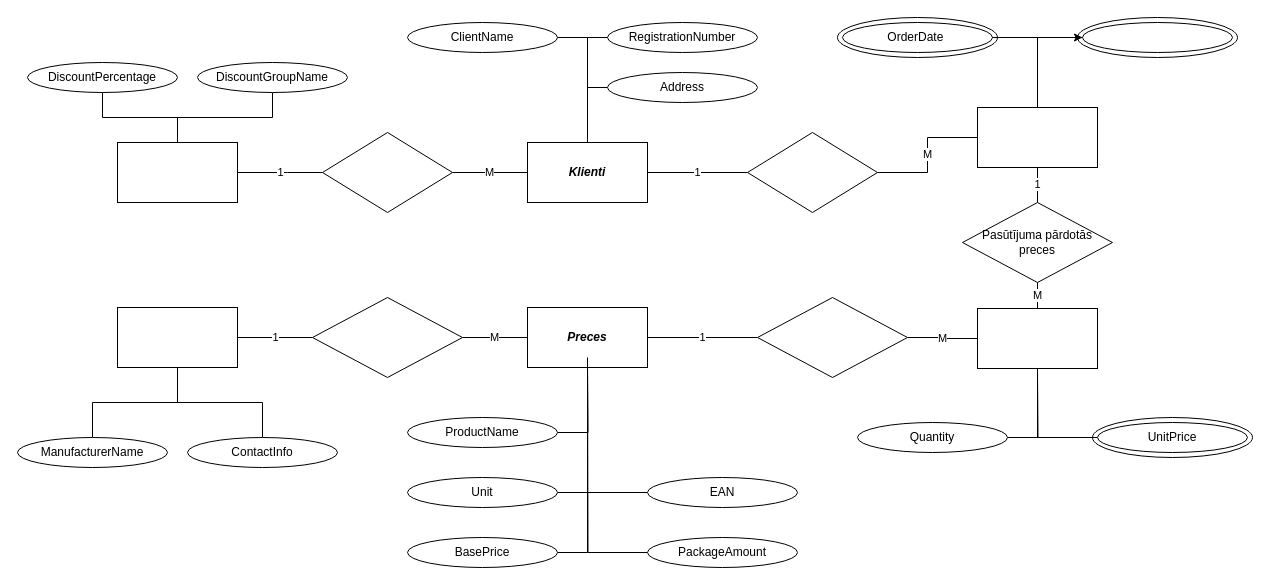
This 1270x585 diagram has some shape labels left out. The shapes that lost their labels are listed below. From the top down, each one's centre as x and y in pixels, then its label:
At point (1157, 37): "TotalAmount".
At point (1037, 137): "Pasūtījums".
At point (177, 172): "Atlaižu grupa".
At point (387, 172): "Klienta atlaides grupa".
At point (812, 172): "Kuram klientam pasūtījums ir veikts".
At point (177, 337): "Ražotājs".
At point (387, 337): "Precei ražotājs".
At point (832, 337): "Pasūtījumā pārdotās preces".
At point (1037, 338): "Pasūtījumu detaļas".
